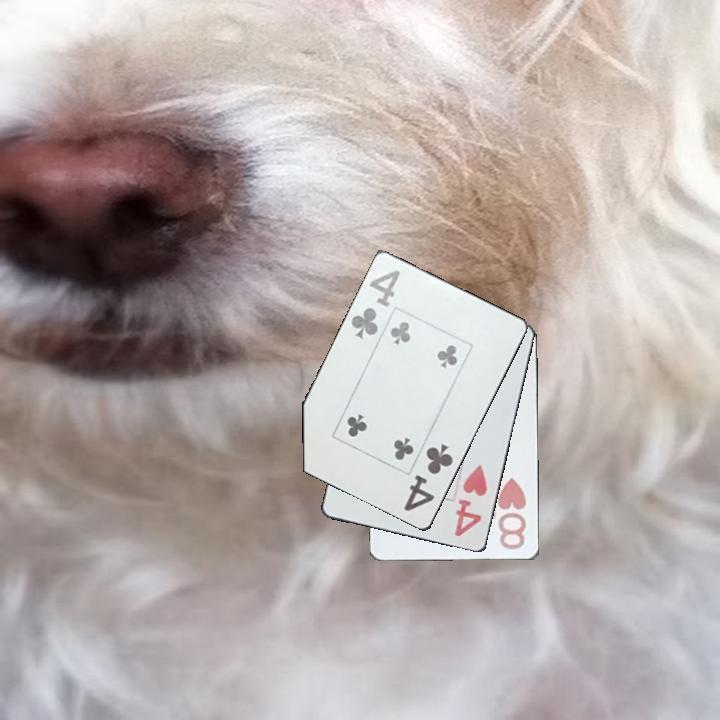4c: (348, 266, 403, 343), (400, 440, 456, 515)
4h: (451, 461, 491, 540)
8h: (496, 475, 530, 552)
